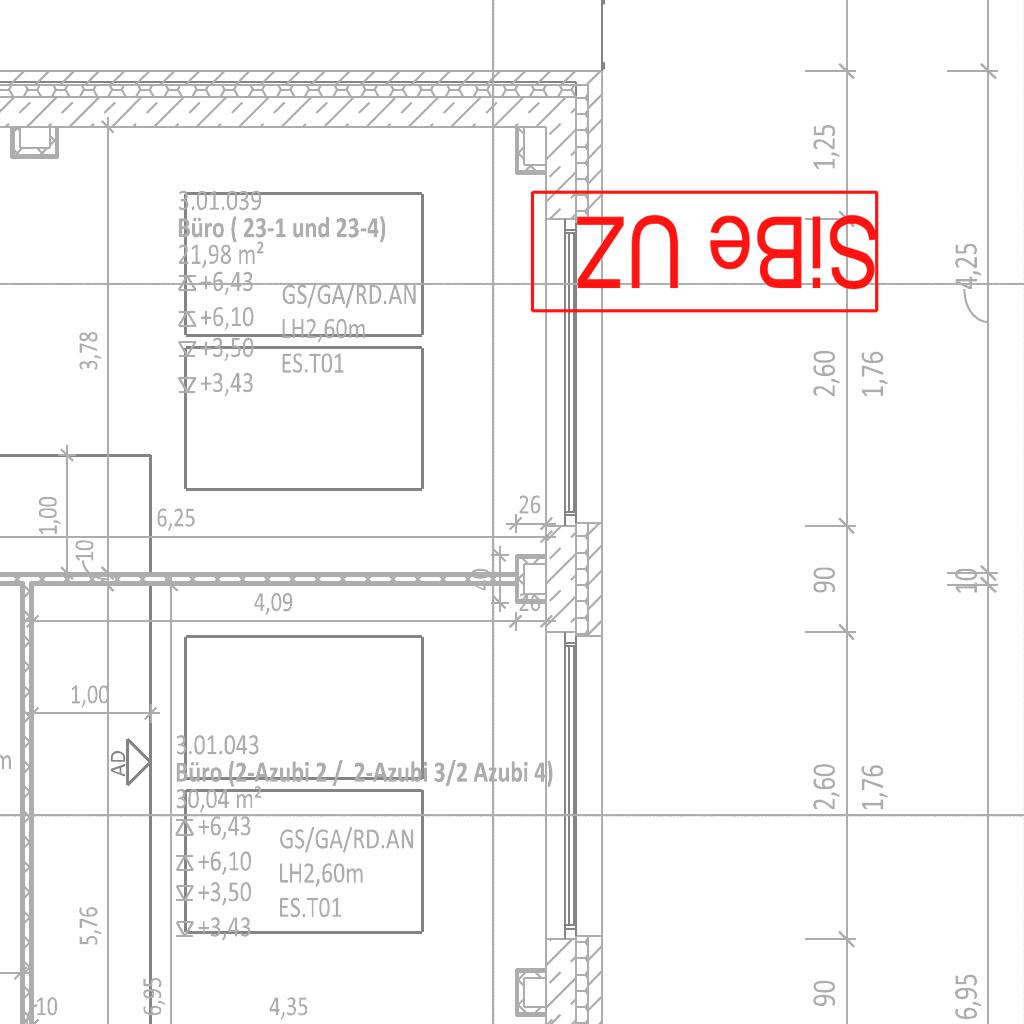Zentrale_Sicherheitsbeleuchtung: (525, 186, 882, 316)
